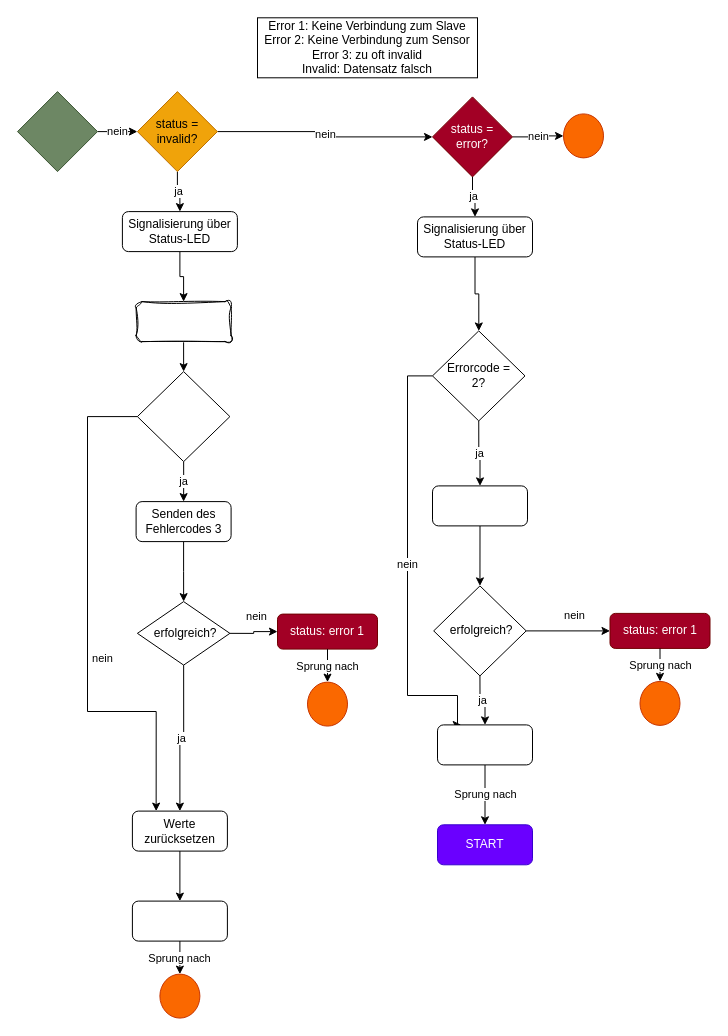
Some shapes in this 728 by 1036 pixel diagram are drawn without their labels. The centre of each missing label's shape, as x and y in pixels:
2 Sekunden warten: point (484, 744)
invalid-Zähler um 1 erhöhen: point (183, 321)
Senden des Fehlercodes 2: point (480, 505)
status = finished?: point (57, 131)
status: ready: point (179, 920)
zu häufig invalid aufgetreten?: point (183, 416)
